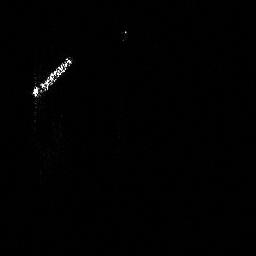ship: (28, 53, 76, 101)
